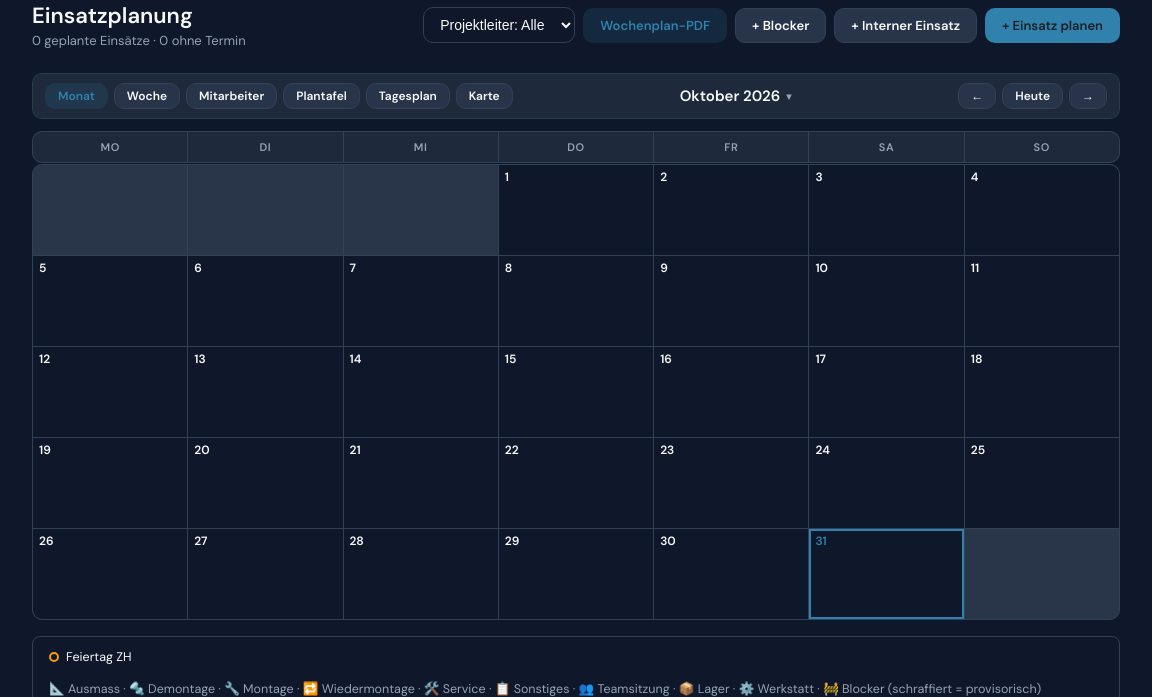
Test case: Blocker mit Kategorien › verlangt einen Titel, bevor gespeichert wird
Click the button "+ Blocker" at (781,25), box [735,8,826,42]
(page scrolled)
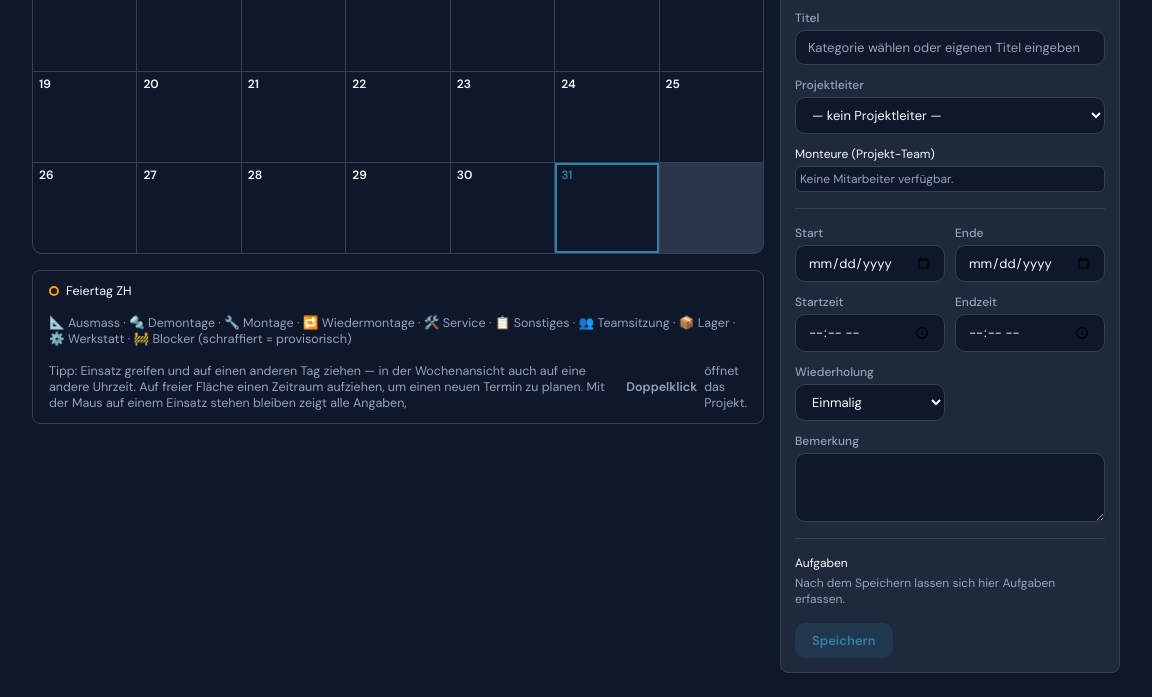
Expected: the field labelled "Titel" is shown, [795,30,1105,65]
Click the button "Speichern" at (844,640), box [795,623,893,658]
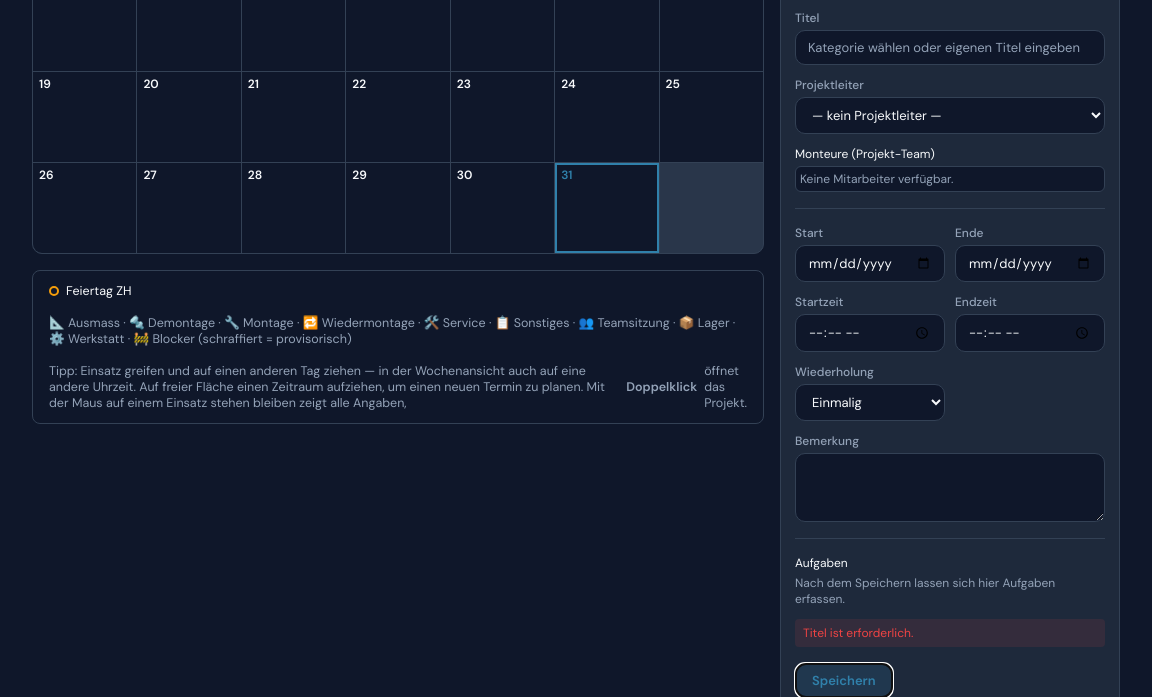
Expected: the text "Titel ist erforderlich." is shown, [795,619,1105,647]
